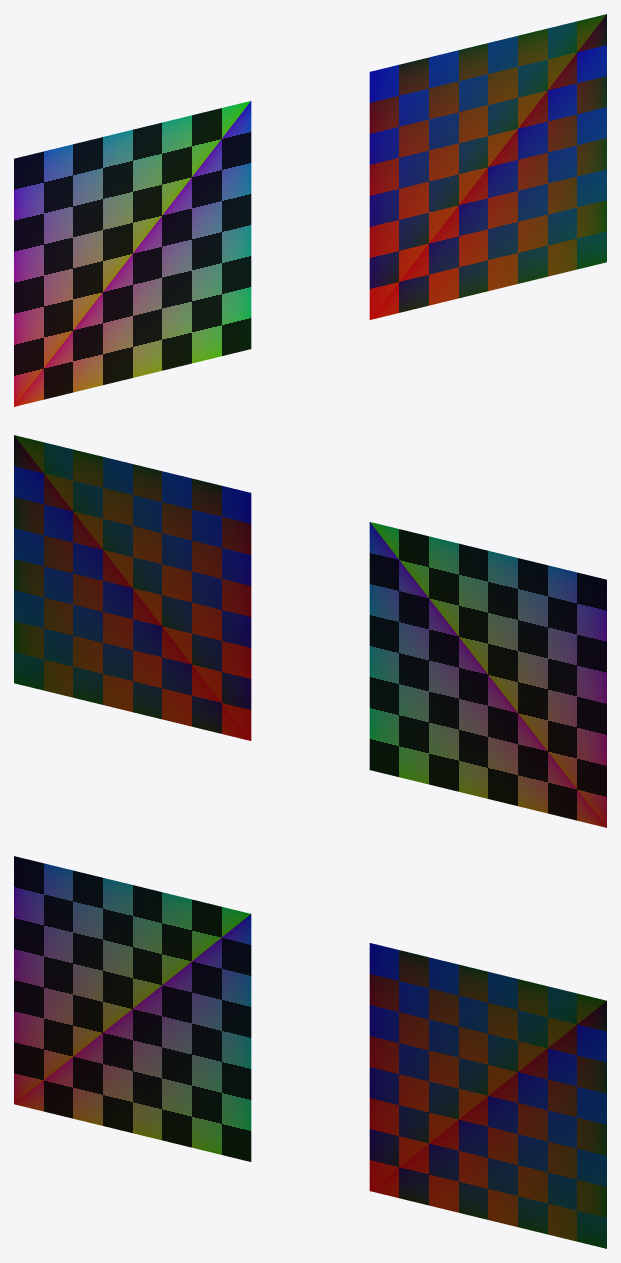
The model's file is checker.gltf.
3 renders of one model, top to bottom at view 1: azimuth 30°, elevation 25°; view 2: azimuth 150°, elevation 25°; view 3: azimuth 330°, elevation 25°, orthographic.
Size of the model in its own units: 5 by 2 by 0.
Materials: 2 (2 with a texture image).
